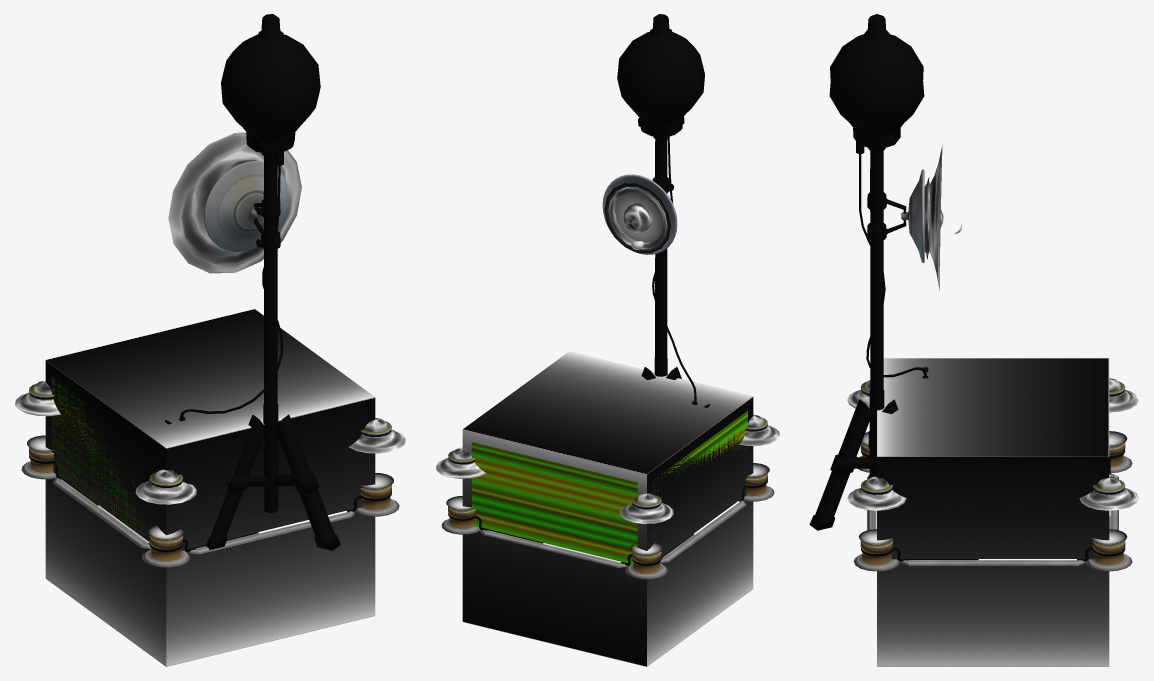
The model's file is PlayerSpawnZoneTeam2.glb.
The picture shows the model from 3 angles, left to right: view 1: azimuth 30°, elevation 25°; view 2: azimuth 150°, elevation 25°; view 3: azimuth 270°, elevation 25°; orthographic projection. The views are drawn at different scales.
Parts seen in each view (by area): view 1: SpawnZoneArea (×2), PillarModel, SMPConeVFX, ParabolModel, SMPConeVFX (2) (×3), BodyBot_LP (×3), LinkPanel_LP (×2); view 2: SpawnZoneArea (×2), PillarModel, SMPConeVFX (2) (×3), BodyBot_LP (×3), SMPSpawnParabolVFX1, LinkPanel_LP (×2), ParabolModel, VFXparabol, Glove; view 3: SpawnZoneArea, PillarModel, SMPConeVFX (2) (×3), BodyBot_LP (×2), SMPConeVFX, ParabolModel, LinkPanel_LP.
Boxes of the visible parts, x1,y1,x2,y2 form: SpawnZoneArea (×2): [45, 309, 375, 666]; PillarModel: [165, 14, 340, 550]; SMPConeVFX: [168, 132, 301, 273]; ParabolModel: [204, 161, 288, 251]; SMPConeVFX (2) (×3): [15, 380, 405, 504]; BodyBot_LP (×3): [21, 447, 399, 567]; LinkPanel_LP (×2): [53, 479, 351, 554]; SpawnZoneArea (×2): [462, 351, 753, 666]; PillarModel: [617, 14, 709, 407]; SMPConeVFX (2) (×3): [435, 414, 779, 523]; BodyBot_LP (×3): [441, 473, 774, 579]; SMPSpawnParabolVFX1: [604, 183, 670, 253]; LinkPanel_LP (×2): [484, 503, 745, 567]; ParabolModel: [602, 174, 677, 254]; VFXparabol: [608, 187, 667, 249]; Glove: [623, 203, 652, 232]; SpawnZoneArea: [877, 358, 1109, 666]; PillarModel: [809, 14, 928, 530]; SMPConeVFX (2) (×3): [847, 378, 1138, 510]; BodyBot_LP (×2): [853, 540, 1132, 571]; SMPConeVFX: [929, 144, 942, 290]; ParabolModel: [901, 169, 924, 263]; LinkPanel_LP: [909, 560, 1076, 565].
Size of what is drawn, in the model's own units: 1.26 by 2.86 by 1.42.
Materials: 18 (15 with a texture image).
